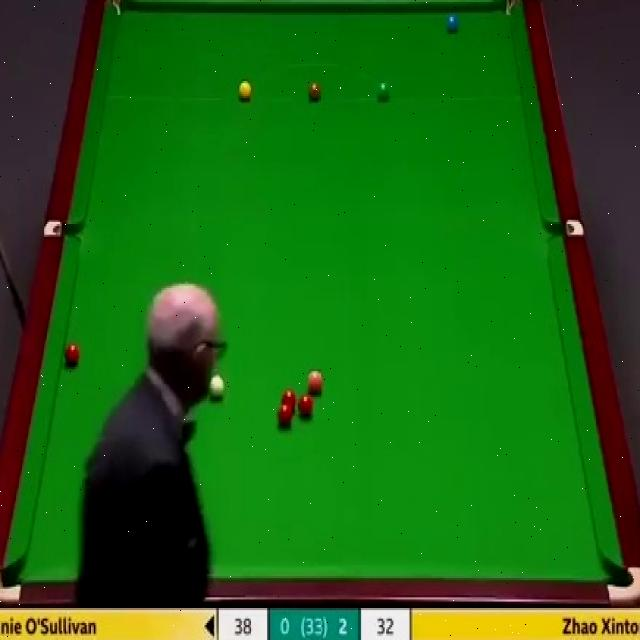blue-ball: (446, 11, 460, 33)
brown-ball: (308, 83, 322, 101)
green-ball: (376, 79, 391, 104)
pink-ball: (306, 369, 323, 394)
red-ball: (64, 342, 80, 367), (277, 404, 294, 426), (299, 396, 315, 418), (282, 389, 296, 414)
white-ball: (210, 375, 225, 400)
yellow-ball: (238, 80, 252, 102)
